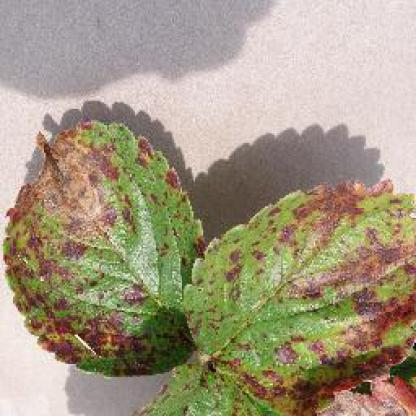leaf scorch: (0, 103, 415, 415)
